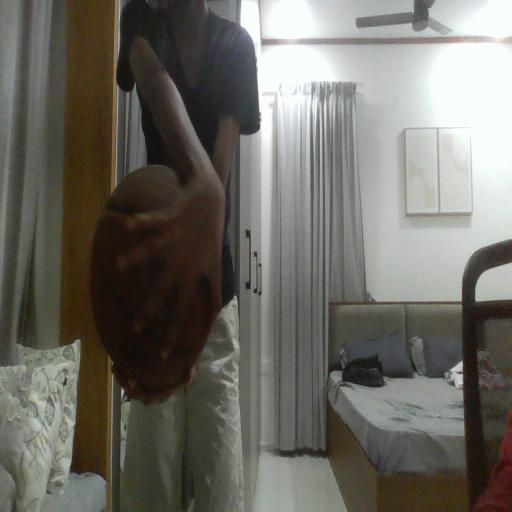basketball: (90, 166, 212, 392)
